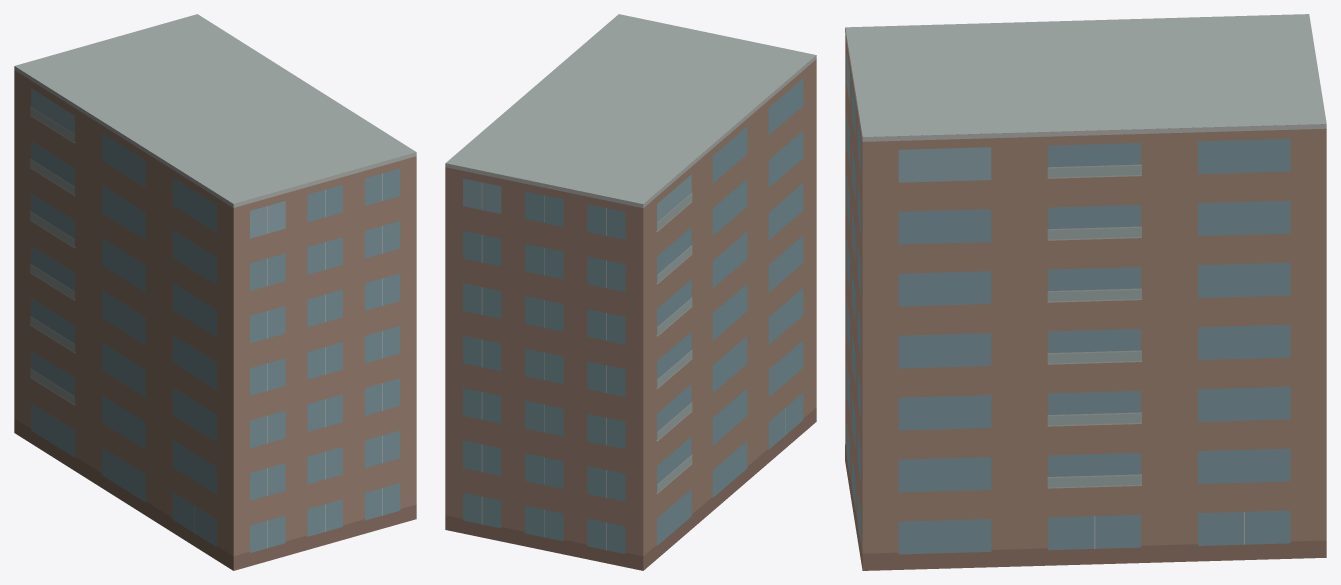
Rendered from survey-upis-32956057.glb.
The picture shows the model from 3 angles, left to right: view 1: azimuth 30°, elevation 25°; view 2: azimuth 150°, elevation 25°; view 3: azimuth 270°, elevation 25°; orthographic projection. The views are drawn at different scales.
Parts seen in each view (by area): view 1: survey-upis-32956057.tmp; view 2: survey-upis-32956057.tmp; view 3: survey-upis-32956057.tmp.
Boxes of the visible parts, x1,y1,x2,y2 form: survey-upis-32956057.tmp: [14, 14, 416, 570]; survey-upis-32956057.tmp: [445, 14, 816, 570]; survey-upis-32956057.tmp: [845, 14, 1326, 570].
Size of the model in its own units: 13.52 by 22.2 by 22.35.
